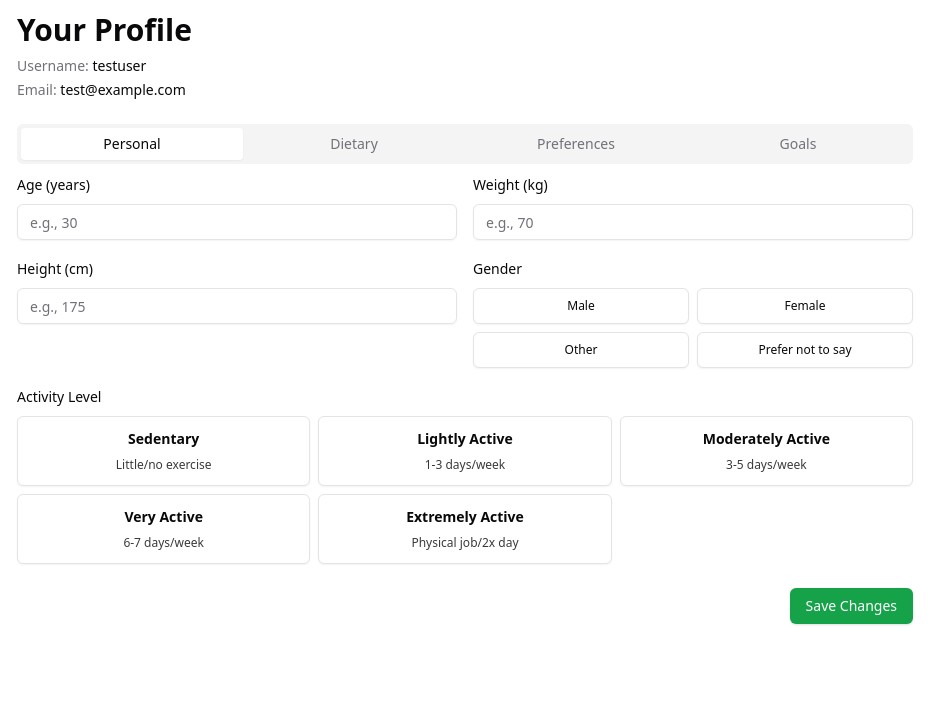
Scenario: ProfileForm › shows error message when update fails
Expected: the text "testuser" is shown, [92, 56, 146, 75]
Change age field to trigger form submission
Type "35" into the number field labelled "Age (years)".
click(237, 222); type("35")  # box [17, 204, 457, 240]
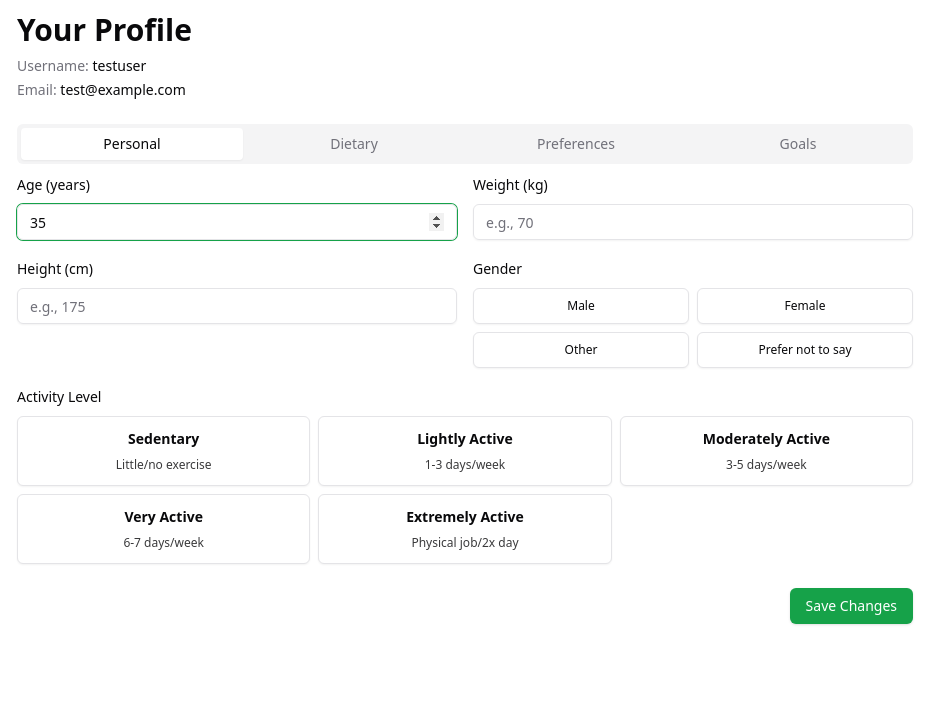
Click the button "Save Changes".
click(851, 606)  # box [790, 588, 913, 624]
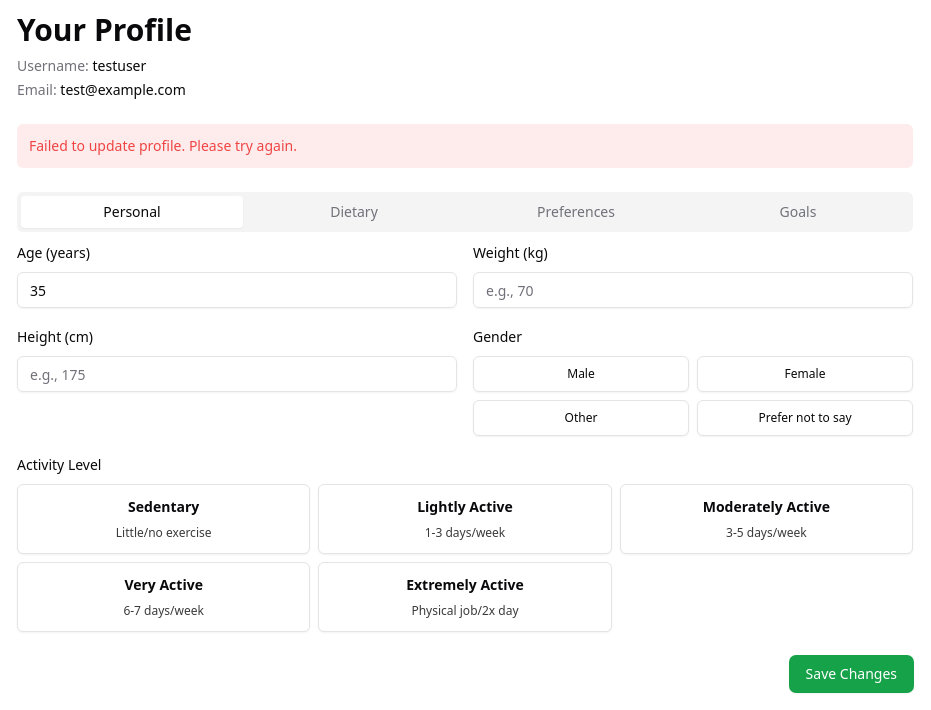
Now the text "Failed to update profile. Please try again." is shown, box [17, 124, 913, 168]
